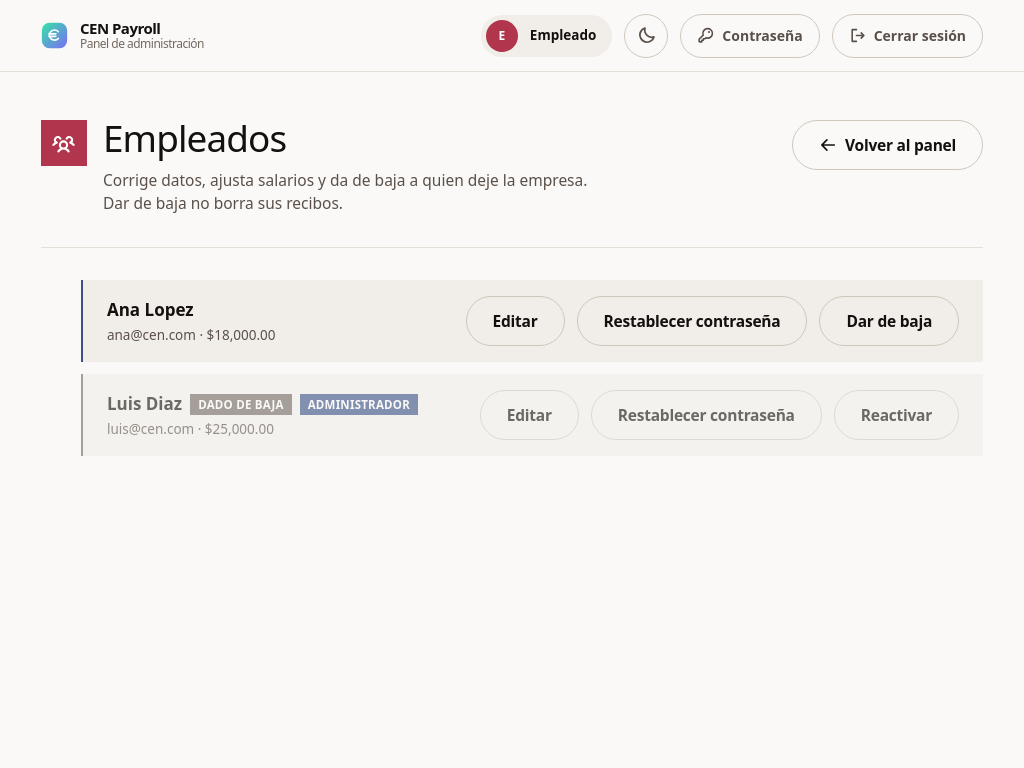
Test: edicion › permite cancelar sin guardar
Click the button "Editar" in the row of "Ana Lopez".
click(515, 321)  # box 466,296 -> 564,346
(page scrolled)
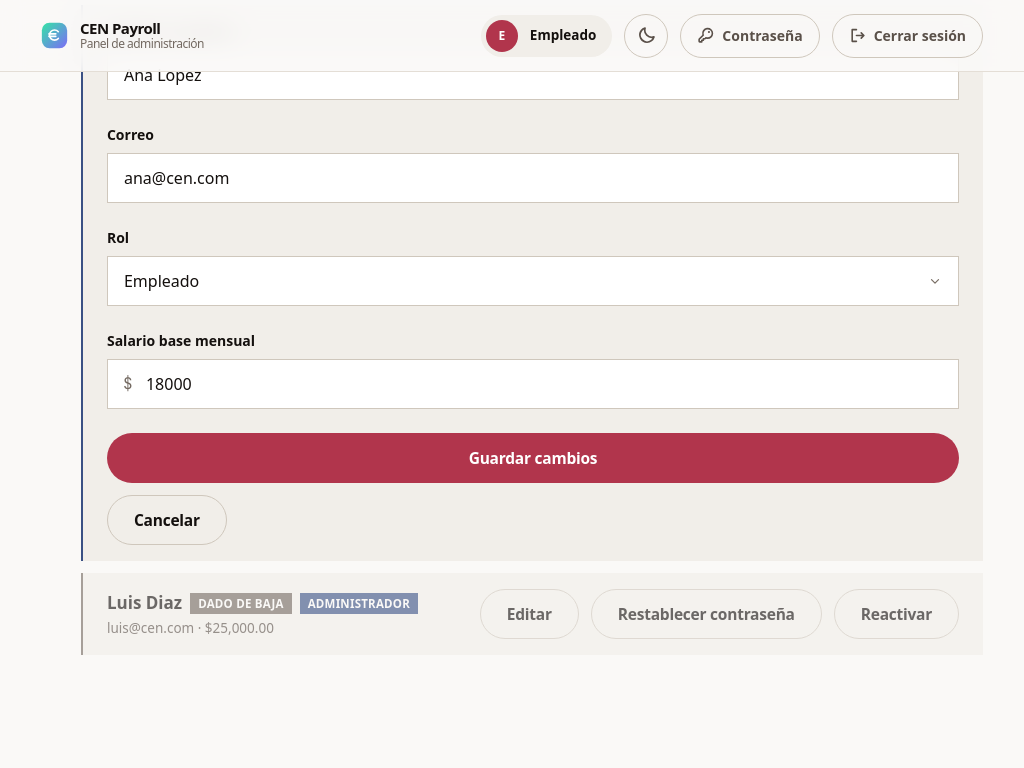
Click the button "Cancelar".
click(167, 520)  # box 107,495 -> 227,545
(page scrolled)
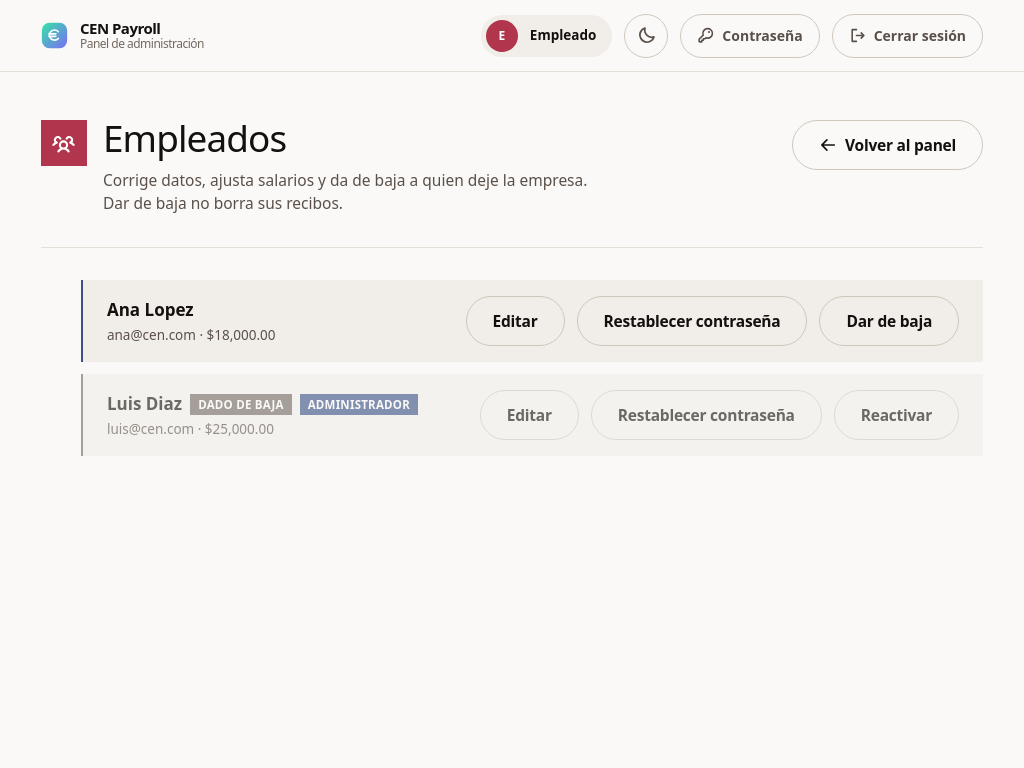
Check: the number of buttons "Editar" is 2, box 466,296 -> 564,346; 480,390 -> 579,440
